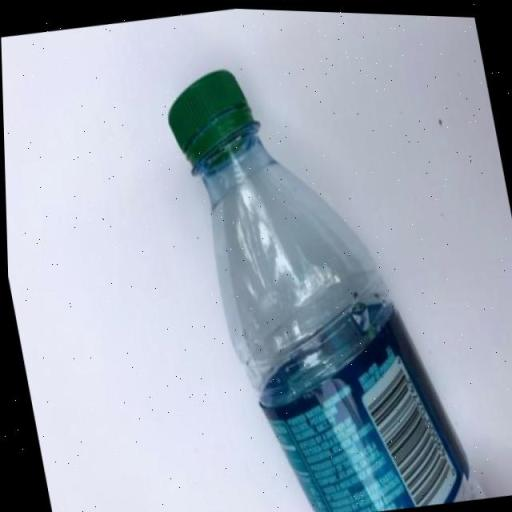plastic: (156, 33, 482, 512)
